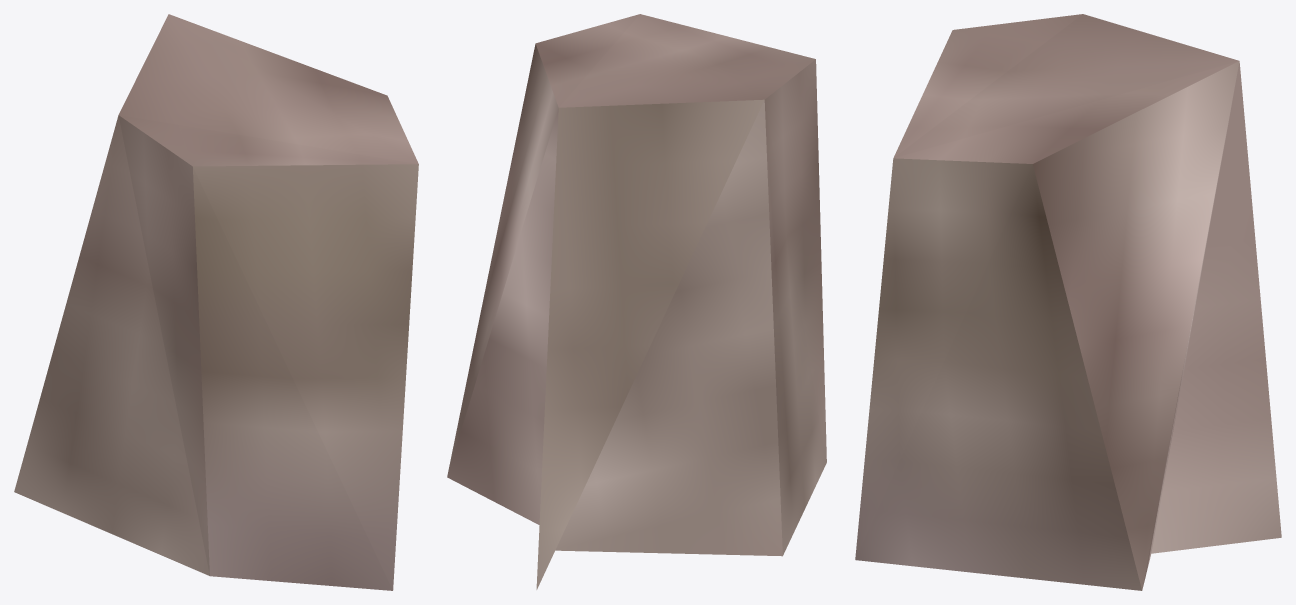
3 views of the same model, side by side, from view 1: azimuth 30°, elevation 25°; view 2: azimuth 150°, elevation 25°; view 3: azimuth 270°, elevation 25° (orthographic). The views are drawn at different scales.
Parts seen in each view (by area): view 1: Mesh_0; view 2: Mesh_0; view 3: Mesh_0.
Part boxes in pixels (<box>): Mesh_0: <box>14,14,418,590</box>; Mesh_0: <box>447,14,826,589</box>; Mesh_0: <box>855,14,1281,590</box>.
Bounding box in the file's own units: 2.22 × 2.88 × 2.29.
Materials: 1 (1 with a texture image).
